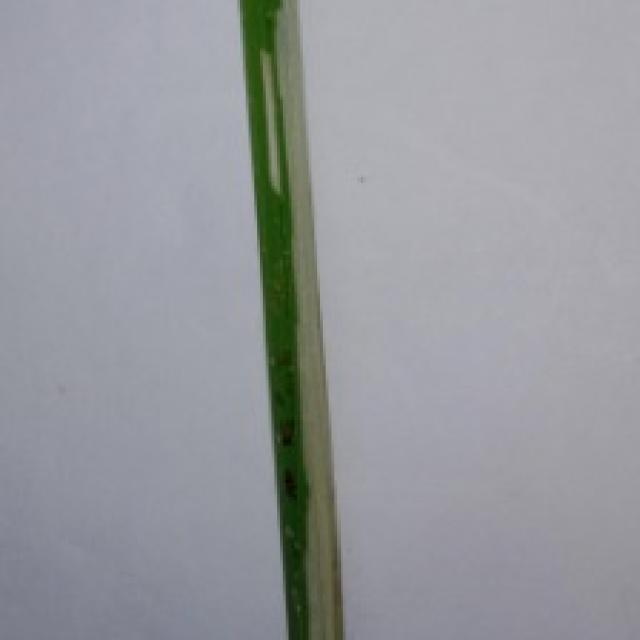Bacterial_Blight: (298, 1, 333, 640), (251, 51, 291, 193)
Brown_Spot: (284, 468, 299, 502), (280, 424, 294, 448), (277, 352, 291, 369), (274, 390, 286, 408), (287, 378, 296, 400)
